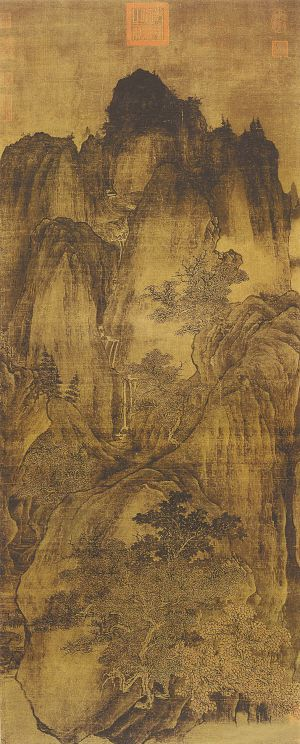mountain: (192, 292, 300, 496), (1, 397, 124, 529), (9, 213, 122, 343), (83, 60, 213, 162), (214, 120, 290, 247), (123, 158, 218, 249), (1, 124, 79, 213)
pine: (58, 490, 300, 725), (143, 251, 251, 328), (22, 345, 82, 400), (122, 350, 184, 395)
